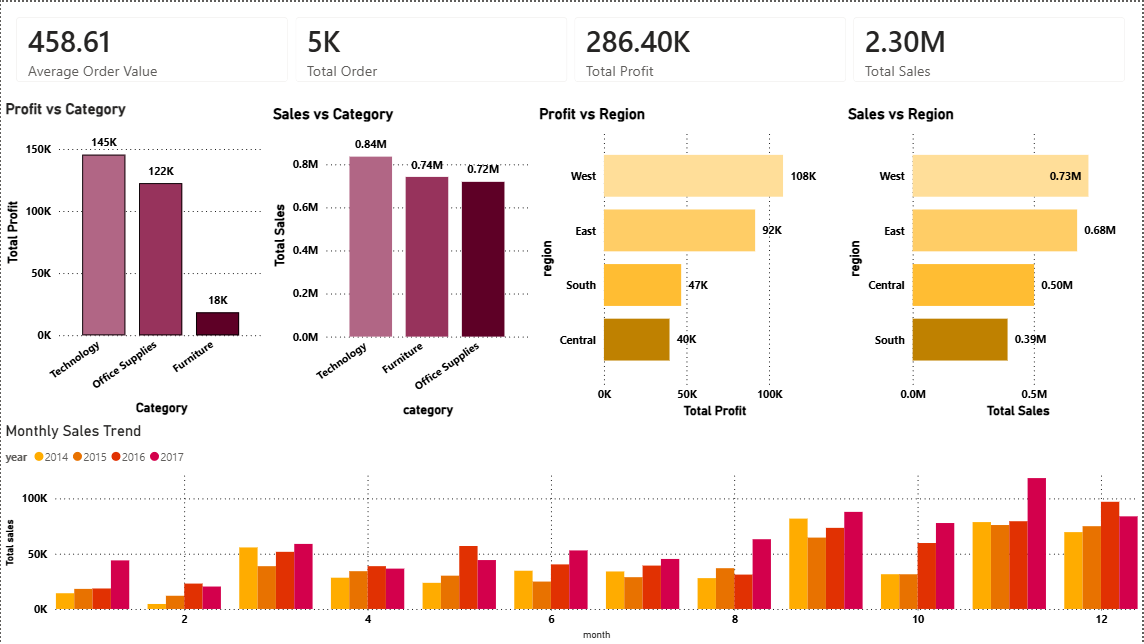

The page's visual inventory and layout, read from the dashboard file:
{"tool":"powerbi","page":{"name":"Page 1","canvas":[1280,720],"ordinal":0},"visuals":[{"type":"cardVisual","fields":{"Data":["Sum(kpi_summary.avg_order_value)","Sum(kpi_summary.total_orders)","Sum(kpi_summary.total_profit)","Sum(kpi_summary.total_sales)"]},"box":[0,0,1280.3,107],"z":0},{"type":"columnChart","title":"Profit vs Category","fields":{"Category":["sales_by_category.category"],"Y":["Sum(sales_by_category.total_profit)"]},"box":[0,109.8,300.5,359.5],"z":1000},{"type":"columnChart","title":"Sales vs Category","fields":{"Category":["sales_by_category.category"],"Y":["Sum(sales_by_category.total_sales)"]},"box":[300.5,115.3,297.8,355.4],"z":2000},{"type":"clusteredBarChart","title":"Profit vs Region","fields":{"Category":["sales_by_region.region"],"Y":["Sum(sales_by_region.total_profit)"]},"box":[598.3,115.3,347.2,356.8],"z":3000},{"type":"clusteredBarChart","title":"Sales vs Region","fields":{"Category":["sales_by_region.region"],"Y":["Sum(sales_by_region.total_sales)"]},"box":[945.5,115.3,334.8,356.8],"z":4000},{"type":"clusteredColumnChart","title":"Monthly Sales Trend","fields":{"Category":["monthly_sales.month"],"Y":["Sum(monthly_sales.total_sales)"],"Series":["monthly_sales.year"]},"box":[0,470.7,1280.3,249.7],"z":5000}]}

Visuals, with their boxes in screenshot pixels (x1, y1, x2, y2), scaled from the page's 1280x720 canvas onto the 1144x644 screenshot:
cardVisual - Sum(kpi_summary.avg_order_value) x Sum(kpi_summary.total_orders): <region>0, 0, 1143, 96</region>
"Profit vs Category" columnChart: <region>0, 98, 269, 420</region>
"Sales vs Category" columnChart: <region>269, 103, 535, 421</region>
"Profit vs Region" clusteredBarChart: <region>535, 103, 845, 422</region>
"Sales vs Region" clusteredBarChart: <region>845, 103, 1143, 422</region>
"Monthly Sales Trend" clusteredColumnChart: <region>0, 421, 1143, 643</region>
